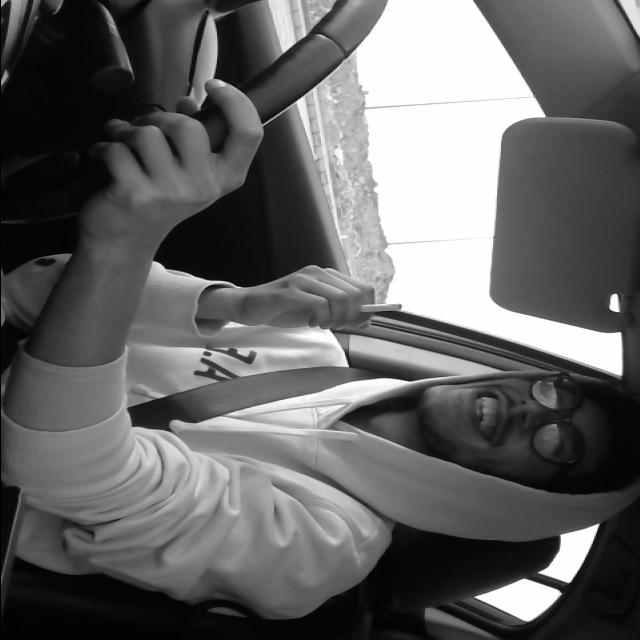smoking: (336, 300, 404, 317)
